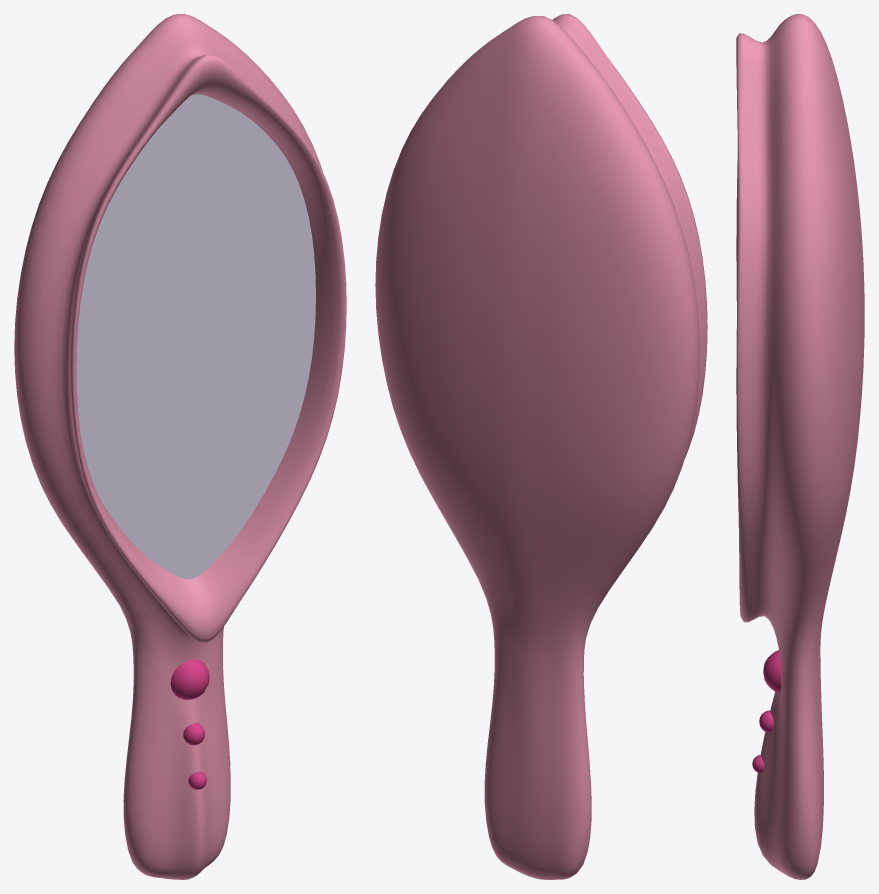
The model's file is vagmirror.fbx.
3 renders of one model, left to right at view 1: azimuth 30°, elevation 25°; view 2: azimuth 150°, elevation 25°; view 3: azimuth 270°, elevation 25°, orthographic.
Visible parts, largest first — view 1: Cube, Plane, Sphere; view 2: Cube; view 3: Cube, Sphere.
Part boxes in pixels (<box>): Cube: <box>14,14,346,879</box>; Plane: <box>76,94,315,579</box>; Sphere: <box>170,659,209,699</box>; Cube: <box>375,14,707,879</box>; Cube: <box>736,14,864,879</box>; Sphere: <box>763,650,781,692</box>.
Size of the model in its own units: 306 by 791 by 108.
